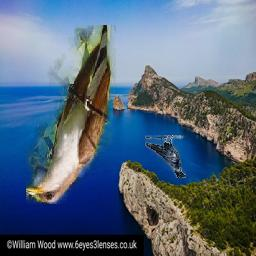Crow: (146, 136, 187, 179)
Cuckoo: (26, 26, 116, 205)
